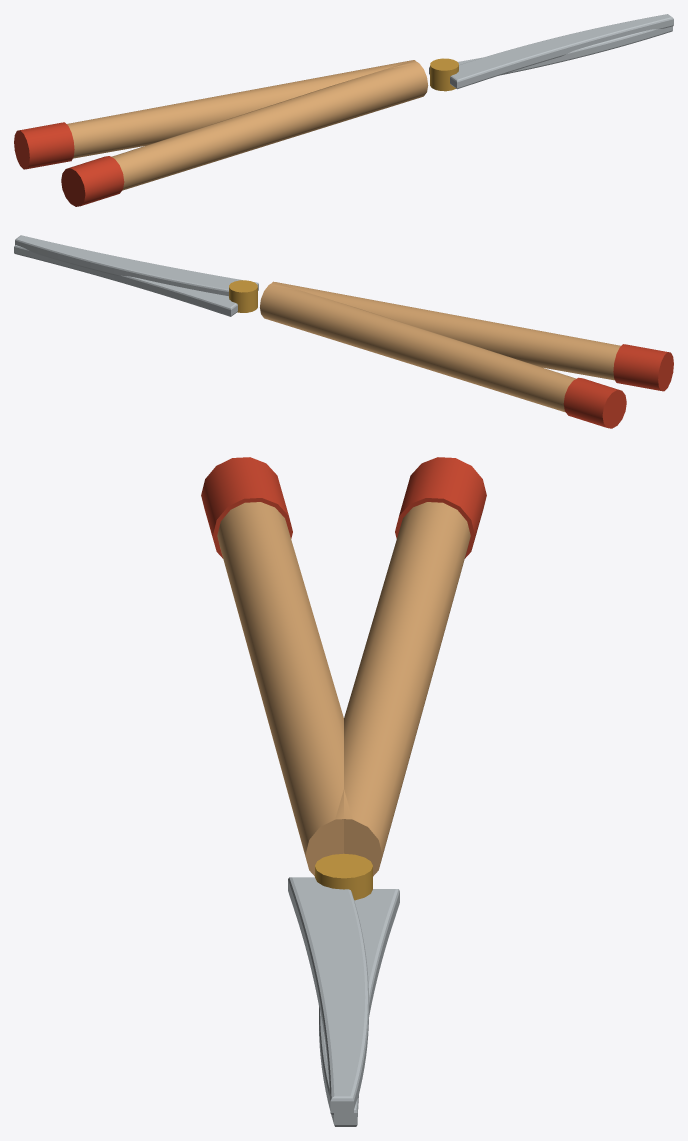
File: garden-shears.glb
3 views of the same model, one above another, from view 1: azimuth 30°, elevation 25°; view 2: azimuth 150°, elevation 25°; view 3: azimuth 270°, elevation 25° (orthographic). The views are drawn at different scales.
Visible parts, largest first — view 1: handle, woodLight, steel, redPlastic, brass; view 2: woodLight, handle, steel, redPlastic, brass; view 3: handle, woodLight, steel, redPlastic, brass.
Part boxes in pixels (x1,y1,x2,y2): handle: (61, 60, 428, 206); woodLight: (67, 60, 417, 158); steel: (429, 14, 673, 89); redPlastic: (14, 122, 74, 169); brass: (430, 58, 458, 91); woodLight: (260, 282, 575, 412); handle: (270, 281, 673, 391); steel: (14, 235, 258, 316); redPlastic: (563, 377, 626, 428); brass: (229, 280, 257, 312); handle: (201, 457, 352, 876); woodLight: (335, 502, 470, 876); steel: (288, 877, 399, 1126); redPlastic: (395, 457, 486, 558); brass: (315, 853, 372, 900).
Size of the model in its own units: 0.4458 by 0.0244 by 0.0883.
